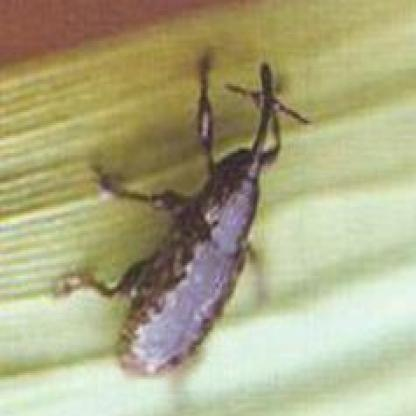rice-bug: (72, 70, 304, 378)
